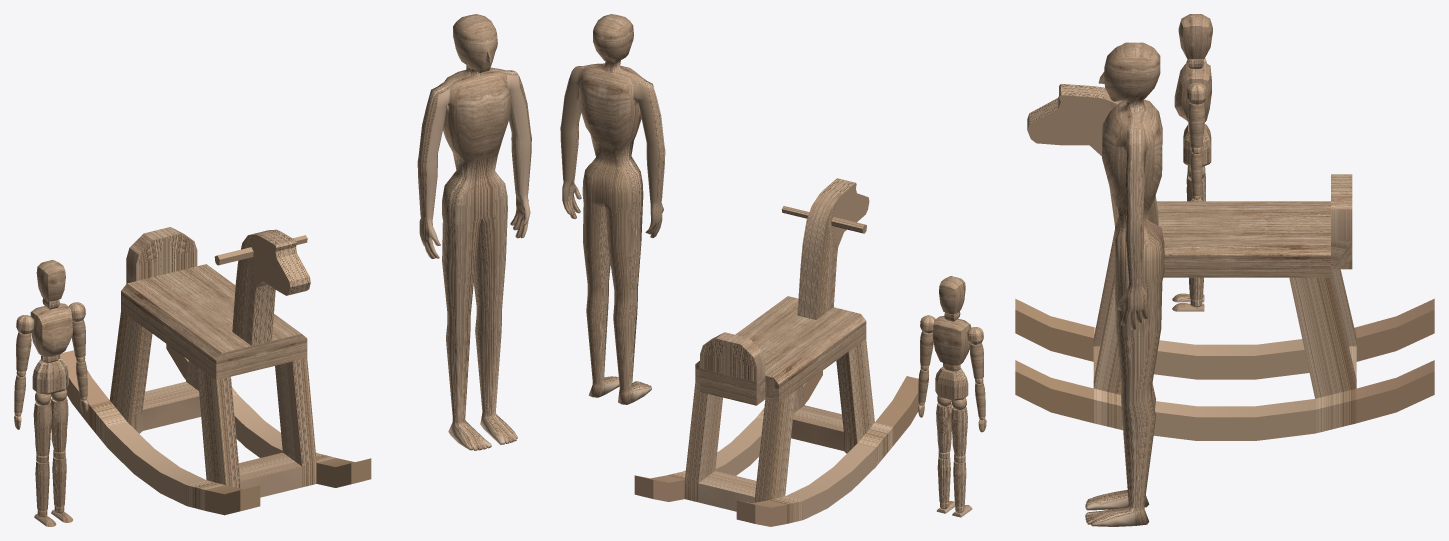
Rendered from dkswogud.fbx.
The picture shows the model from 3 angles, left to right: view 1: azimuth 30°, elevation 25°; view 2: azimuth 150°, elevation 25°; view 3: azimuth 270°, elevation 25°; orthographic projection. The views are drawn at different scales.
Visible parts, largest first — view 1: Box003, Box005, Box002; view 2: Box003, Box005, Box002; view 3: Box003, Box005, Box002.
Part boxes in pixels (<box>): Box003: <box>60,227,371,515</box>; Box005: <box>417,14,531,450</box>; Box002: <box>14,260,88,526</box>; Box003: <box>634,178,918,526</box>; Box005: <box>560,14,665,404</box>; Box002: <box>918,276,986,517</box>; Box003: <box>1015,83,1434,440</box>; Box005: <box>1085,42,1164,526</box>; Box002: <box>1172,14,1212,311</box>.
Size of the model in its own units: 136 by 89.42 by 113.
Materials: 1 (1 with a texture image).
